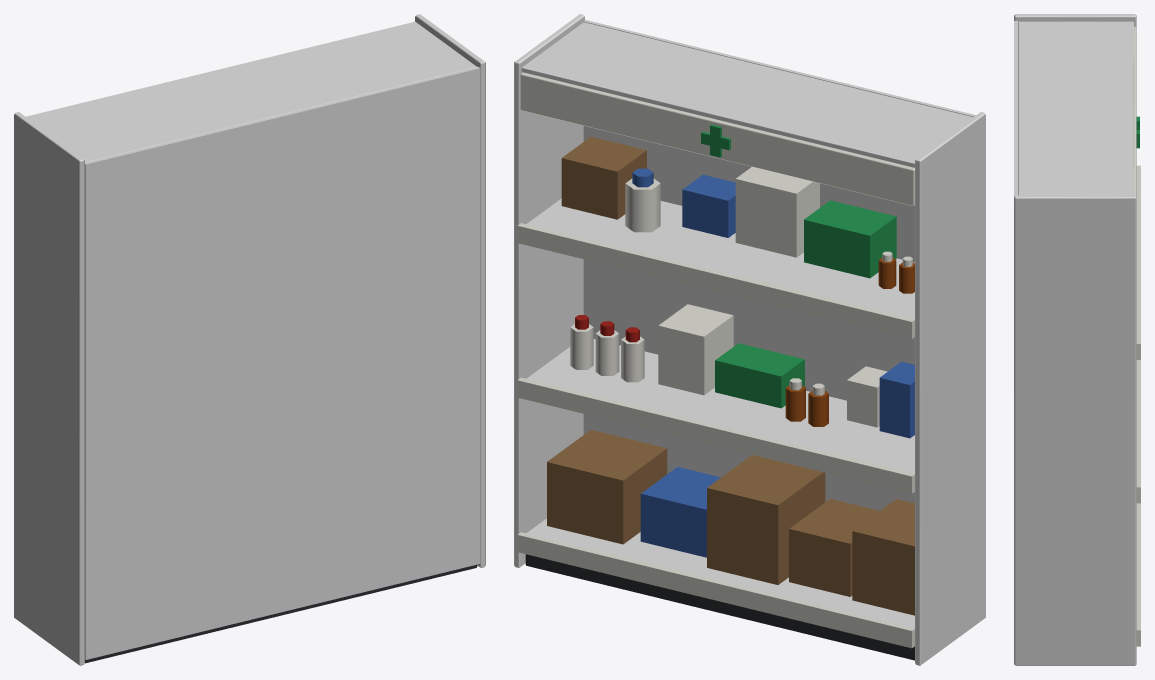
File: shelf.glb
3 views of the same model, side by side, from view 1: azimuth 30°, elevation 25°; view 2: azimuth 150°, elevation 25°; view 3: azimuth 270°, elevation 25° (orthographic). The views are drawn at different scales.
Parts seen in each view (by area): view 1: Shelf; view 2: Shelf; view 3: Shelf.
Boxes of the visible parts, box(x1,y1,x2,y2) form: Shelf: box(14, 14, 485, 665); Shelf: box(514, 14, 985, 665); Shelf: box(1014, 14, 1140, 665).
Size of what is drawn, in the model's own units: 1.6 by 1.9 by 0.465.
